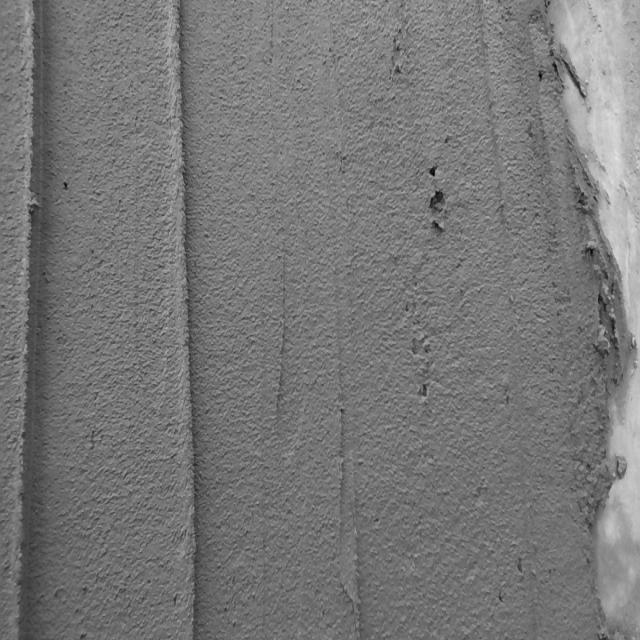trowels marks: (151, 0, 205, 630), (10, 0, 47, 640)
